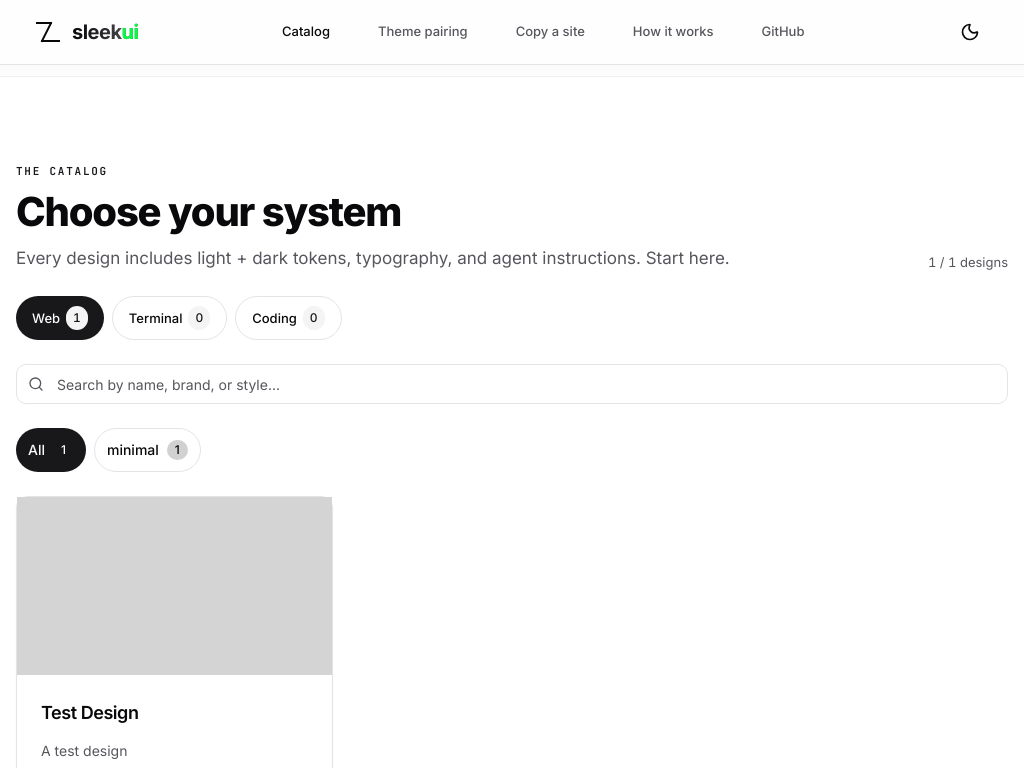
Test: Error/edge-path guards (#123) › recovers from an empty search via the Clear filters button
(page scrolled)
Expected: the text "1 / 1 designs" is shown, [928,253,1008,272]
Step 1. Type "zzz-no-such-design" into the field labelled "Search by name, brand, or style..." → (512, 384), box [16,364,1008,404]
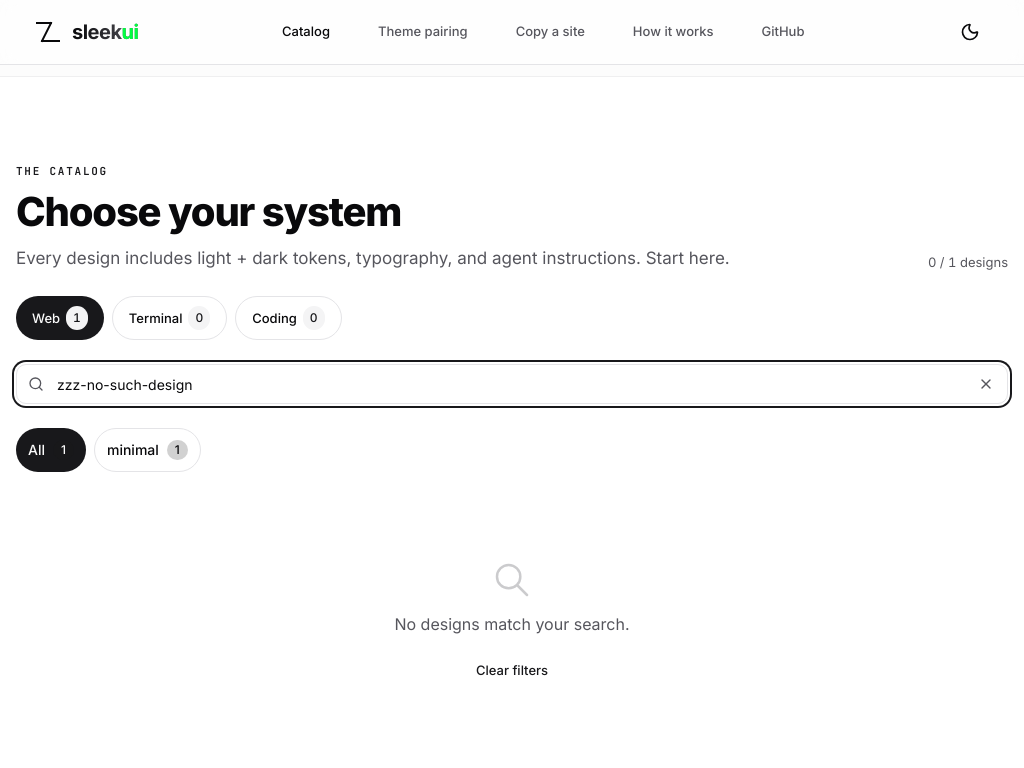
Result: the text "No designs match your search." is shown at [394,612,630,636]
Result: the text "0 / 1 designs" is shown at [928,253,1008,272]
Step 2. Click the button "Clear filters" → (512, 670), box [464,648,560,692]
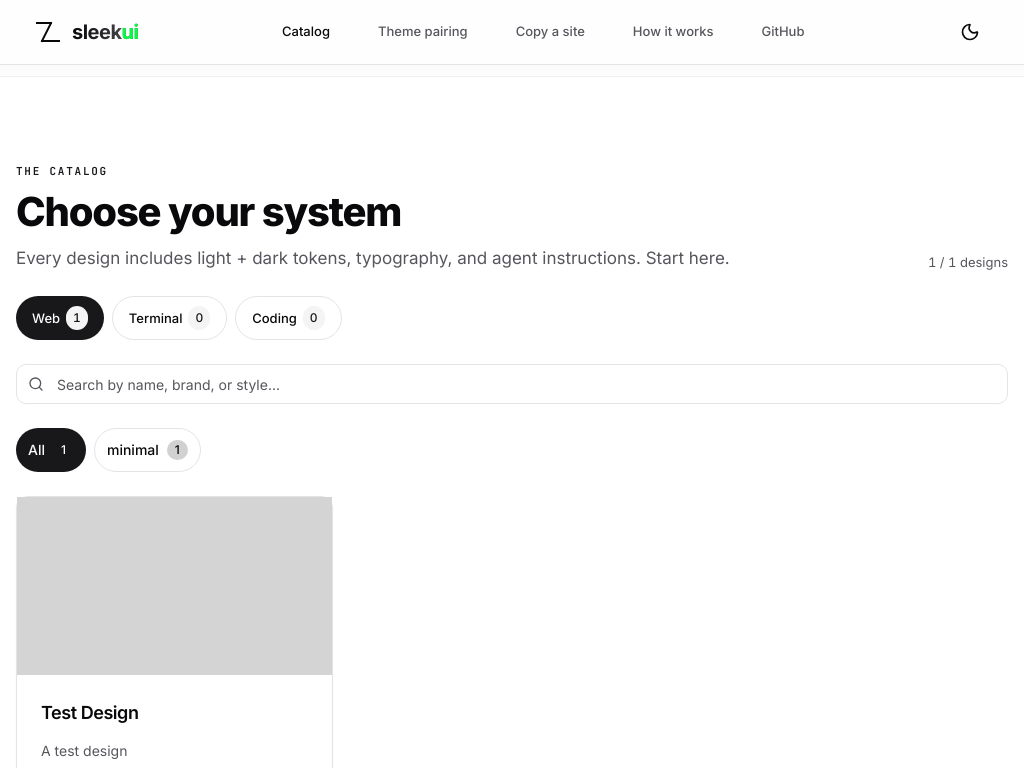
Result: the text "1 / 1 designs" is shown at [928,253,1008,272]
Result: the text "No designs match your search." is gone
Result: the field labelled "Search by name, brand, or style..." is empty at [16,364,1008,404]
